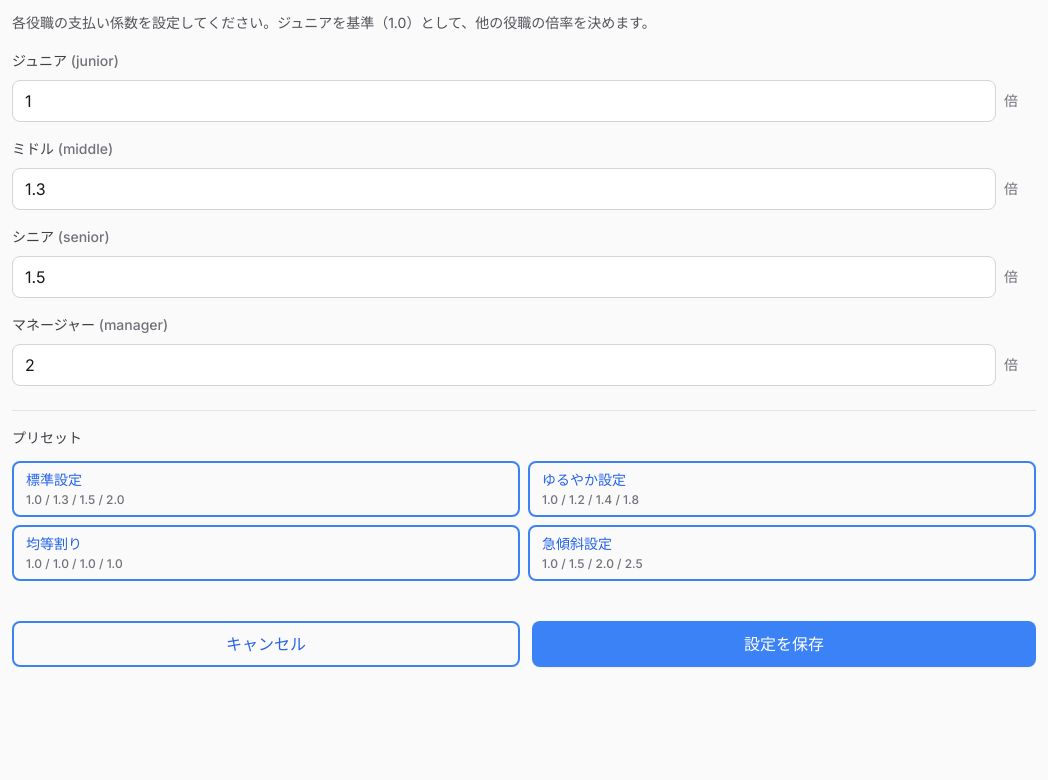
it: RoleSettingsForm › 急傾斜設定プリセットが動作する
Click the button "急傾斜設定 1.0 / 1.5 / 2.0 / 2.5": (577, 544) x1=528 y1=525 x2=1036 y2=581
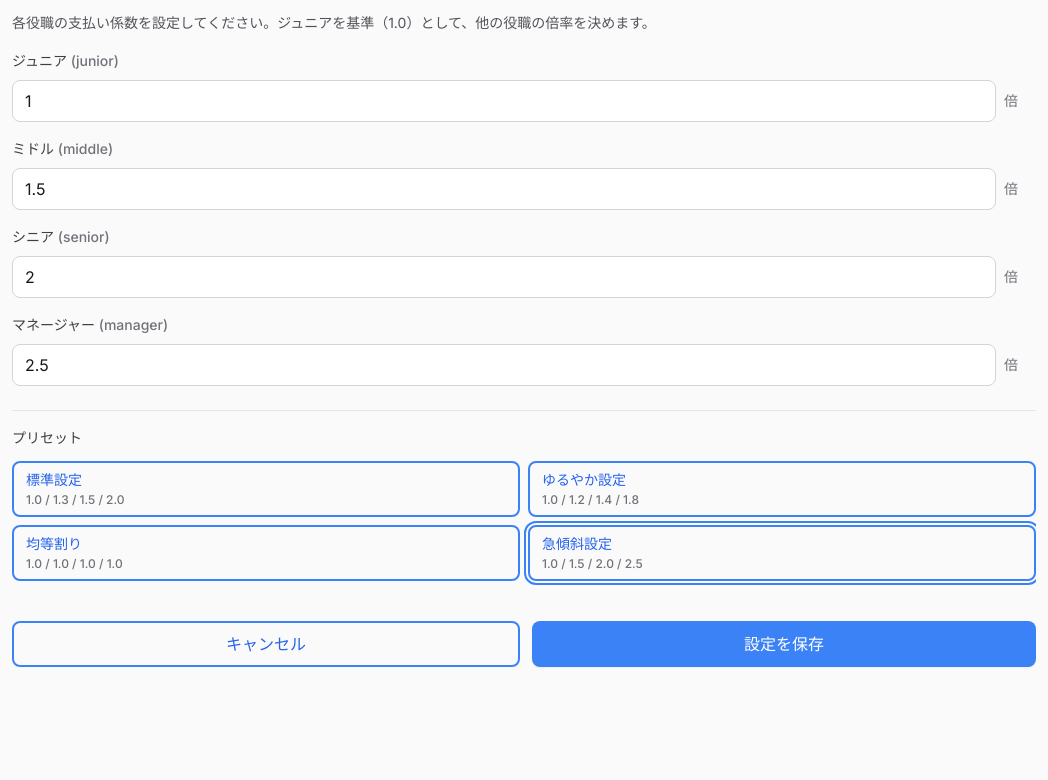
Now the number field labelled "ミドル (middle)" holds "1.5", box x1=12 y1=168 x2=996 y2=210
Now the number field labelled "シニア (senior)" holds "2", box x1=12 y1=256 x2=996 y2=298
Now the number field labelled "マネージャー (manager)" holds "2.5", box x1=12 y1=344 x2=996 y2=386
